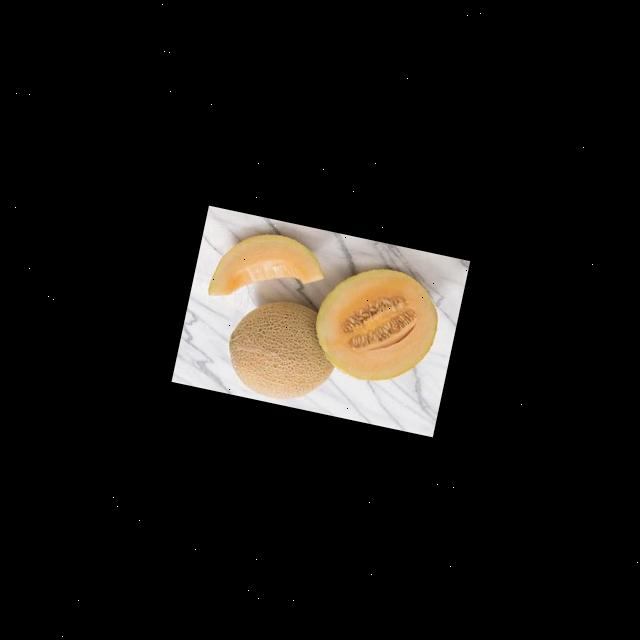Hami Melon: (304, 254, 446, 393), (219, 290, 344, 406), (206, 220, 330, 318)
